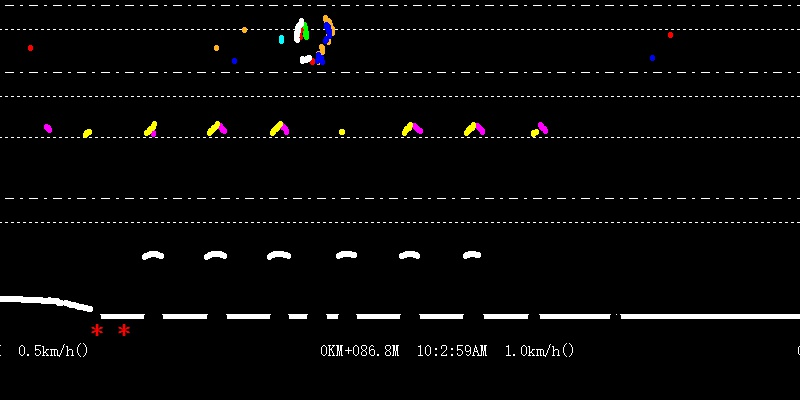J: (293, 4, 335, 68)
star: (88, 320, 104, 341), (116, 324, 133, 342)
y_p: (132, 111, 488, 272)
